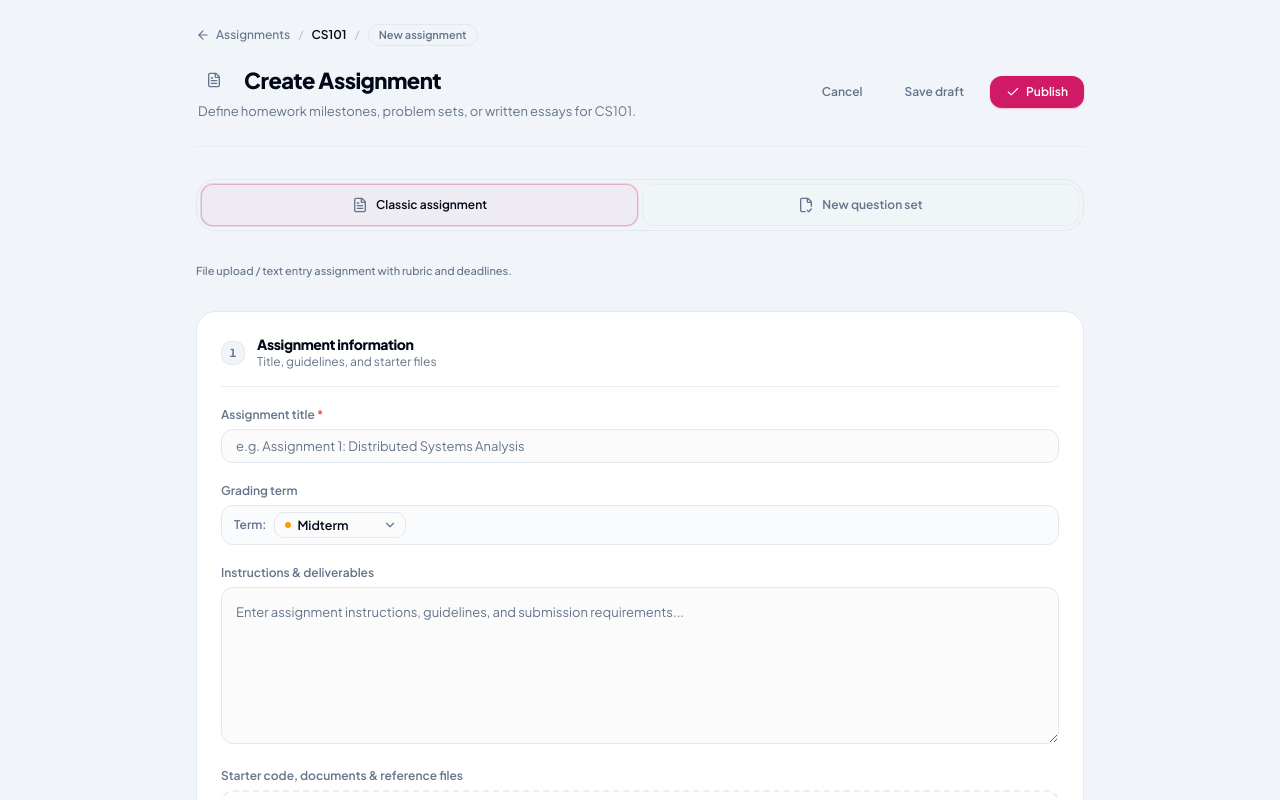
it: CreateAssessmentPages forms › CreateAssignmentPage allows switching to New question set mode
# Switch to question set
Click the button "New question set" at (860, 204), box [642,184,1079,226]
(page scrolled)
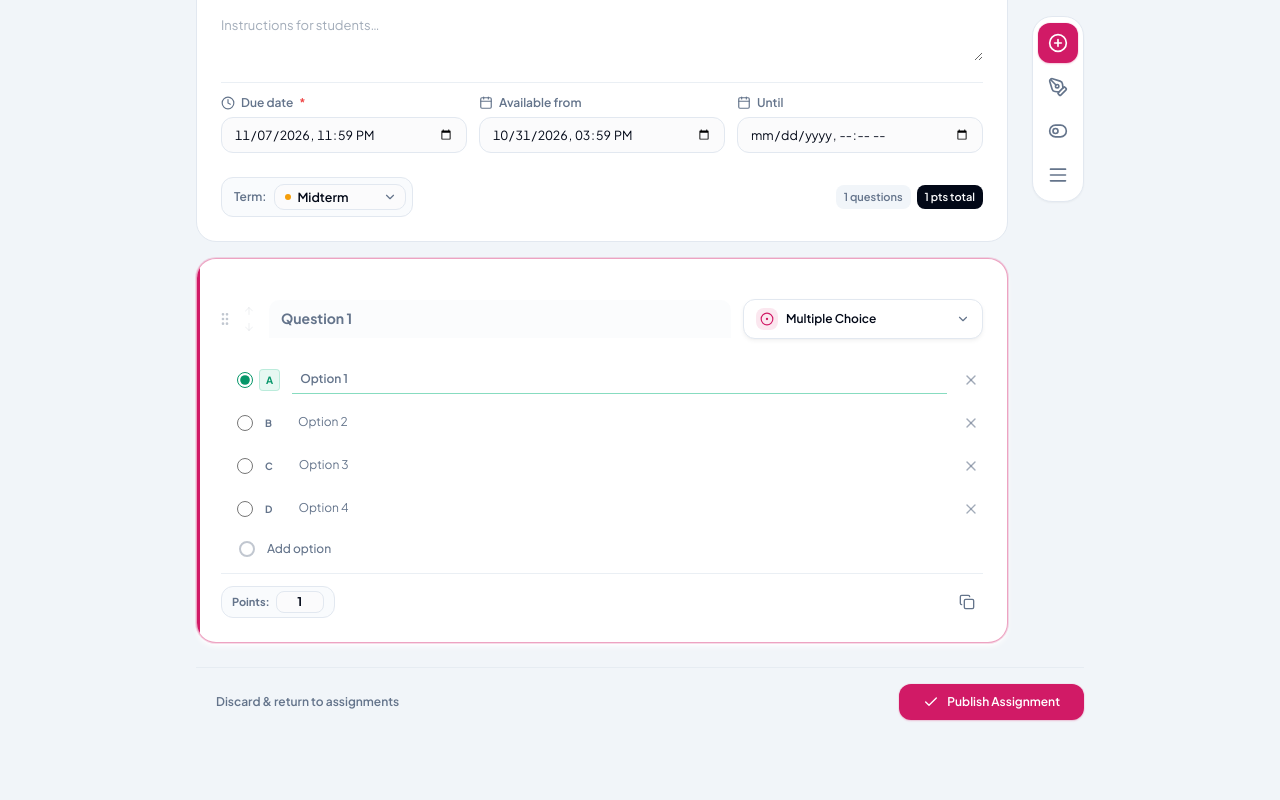
Expected: the button "Discard & return to assignments" is shown, [196,684,419,720]
